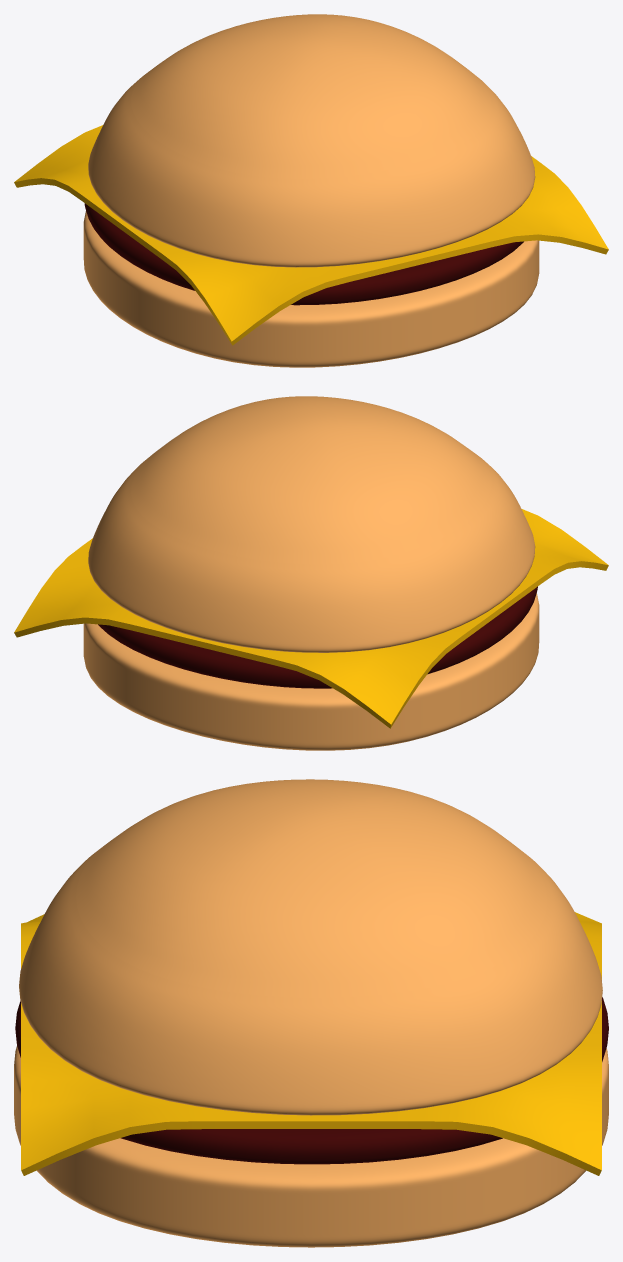
Rendered from hamburger.glb.
3 views of the same model, one above another, from view 1: azimuth 30°, elevation 25°; view 2: azimuth 150°, elevation 25°; view 3: azimuth 270°, elevation 25° (orthographic). The views are drawn at different scales.
Visible parts, largest first — view 1: Cube.002, Cube, Plane, Cube.001; view 2: Cube.002, Cube, Plane, Cube.001; view 3: Cube.002, Cube, Plane, Cube.001.
Part boxes in pixels (left/top/right/bottom): Cube.002: left=88, top=14, right=535, bottom=267; Cube: left=83, top=211, right=539, bottom=367; Plane: left=14, top=125, right=608, bottom=345; Cube.001: left=84, top=203, right=523, bottom=305; Cube.002: left=88, top=396, right=535, bottom=652; Cube: left=83, top=593, right=539, bottom=750; Plane: left=14, top=509, right=608, bottom=728; Cube.001: left=98, top=586, right=537, bottom=688; Cube.002: left=19, top=779, right=602, bottom=1115; Cube: left=14, top=1046, right=608, bottom=1247; Plane: left=21, top=912, right=601, bottom=1175; Cube.001: left=15, top=997, right=608, bottom=1164.
Size of the model in its own units: 9.2 by 5.51 by 9.2.
